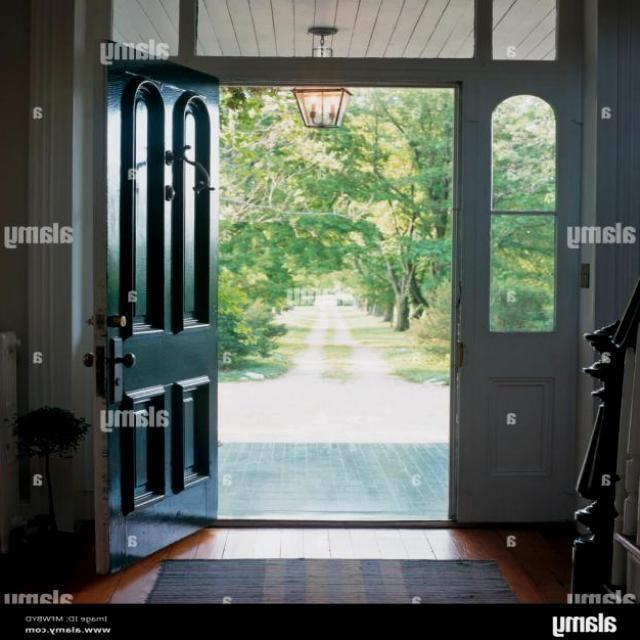door: (100, 59, 220, 571)
